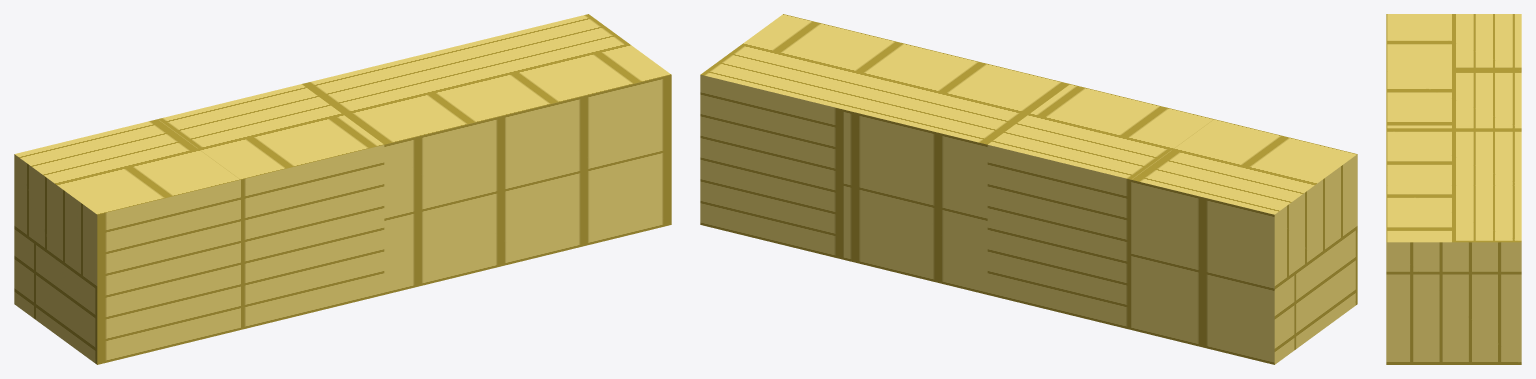
The model's file is kabe_short.obj.
The picture shows the model from 3 angles, left to right: view 1: azimuth 30°, elevation 25°; view 2: azimuth 150°, elevation 25°; view 3: azimuth 270°, elevation 25°; orthographic projection. The views are drawn at different scales.
Visible parts, largest first — view 1: kabe_mijikai_Cube.005; view 2: kabe_mijikai_Cube.005; view 3: kabe_mijikai_Cube.005.
Part boxes in pixels (left/top/right/bottom): kabe_mijikai_Cube.005: left=14, top=14, right=671, bottom=364; kabe_mijikai_Cube.005: left=700, top=14, right=1357, bottom=364; kabe_mijikai_Cube.005: left=1386, top=14, right=1521, bottom=364.
Bounding box in the file's own units: 8 × 2 × 2.
